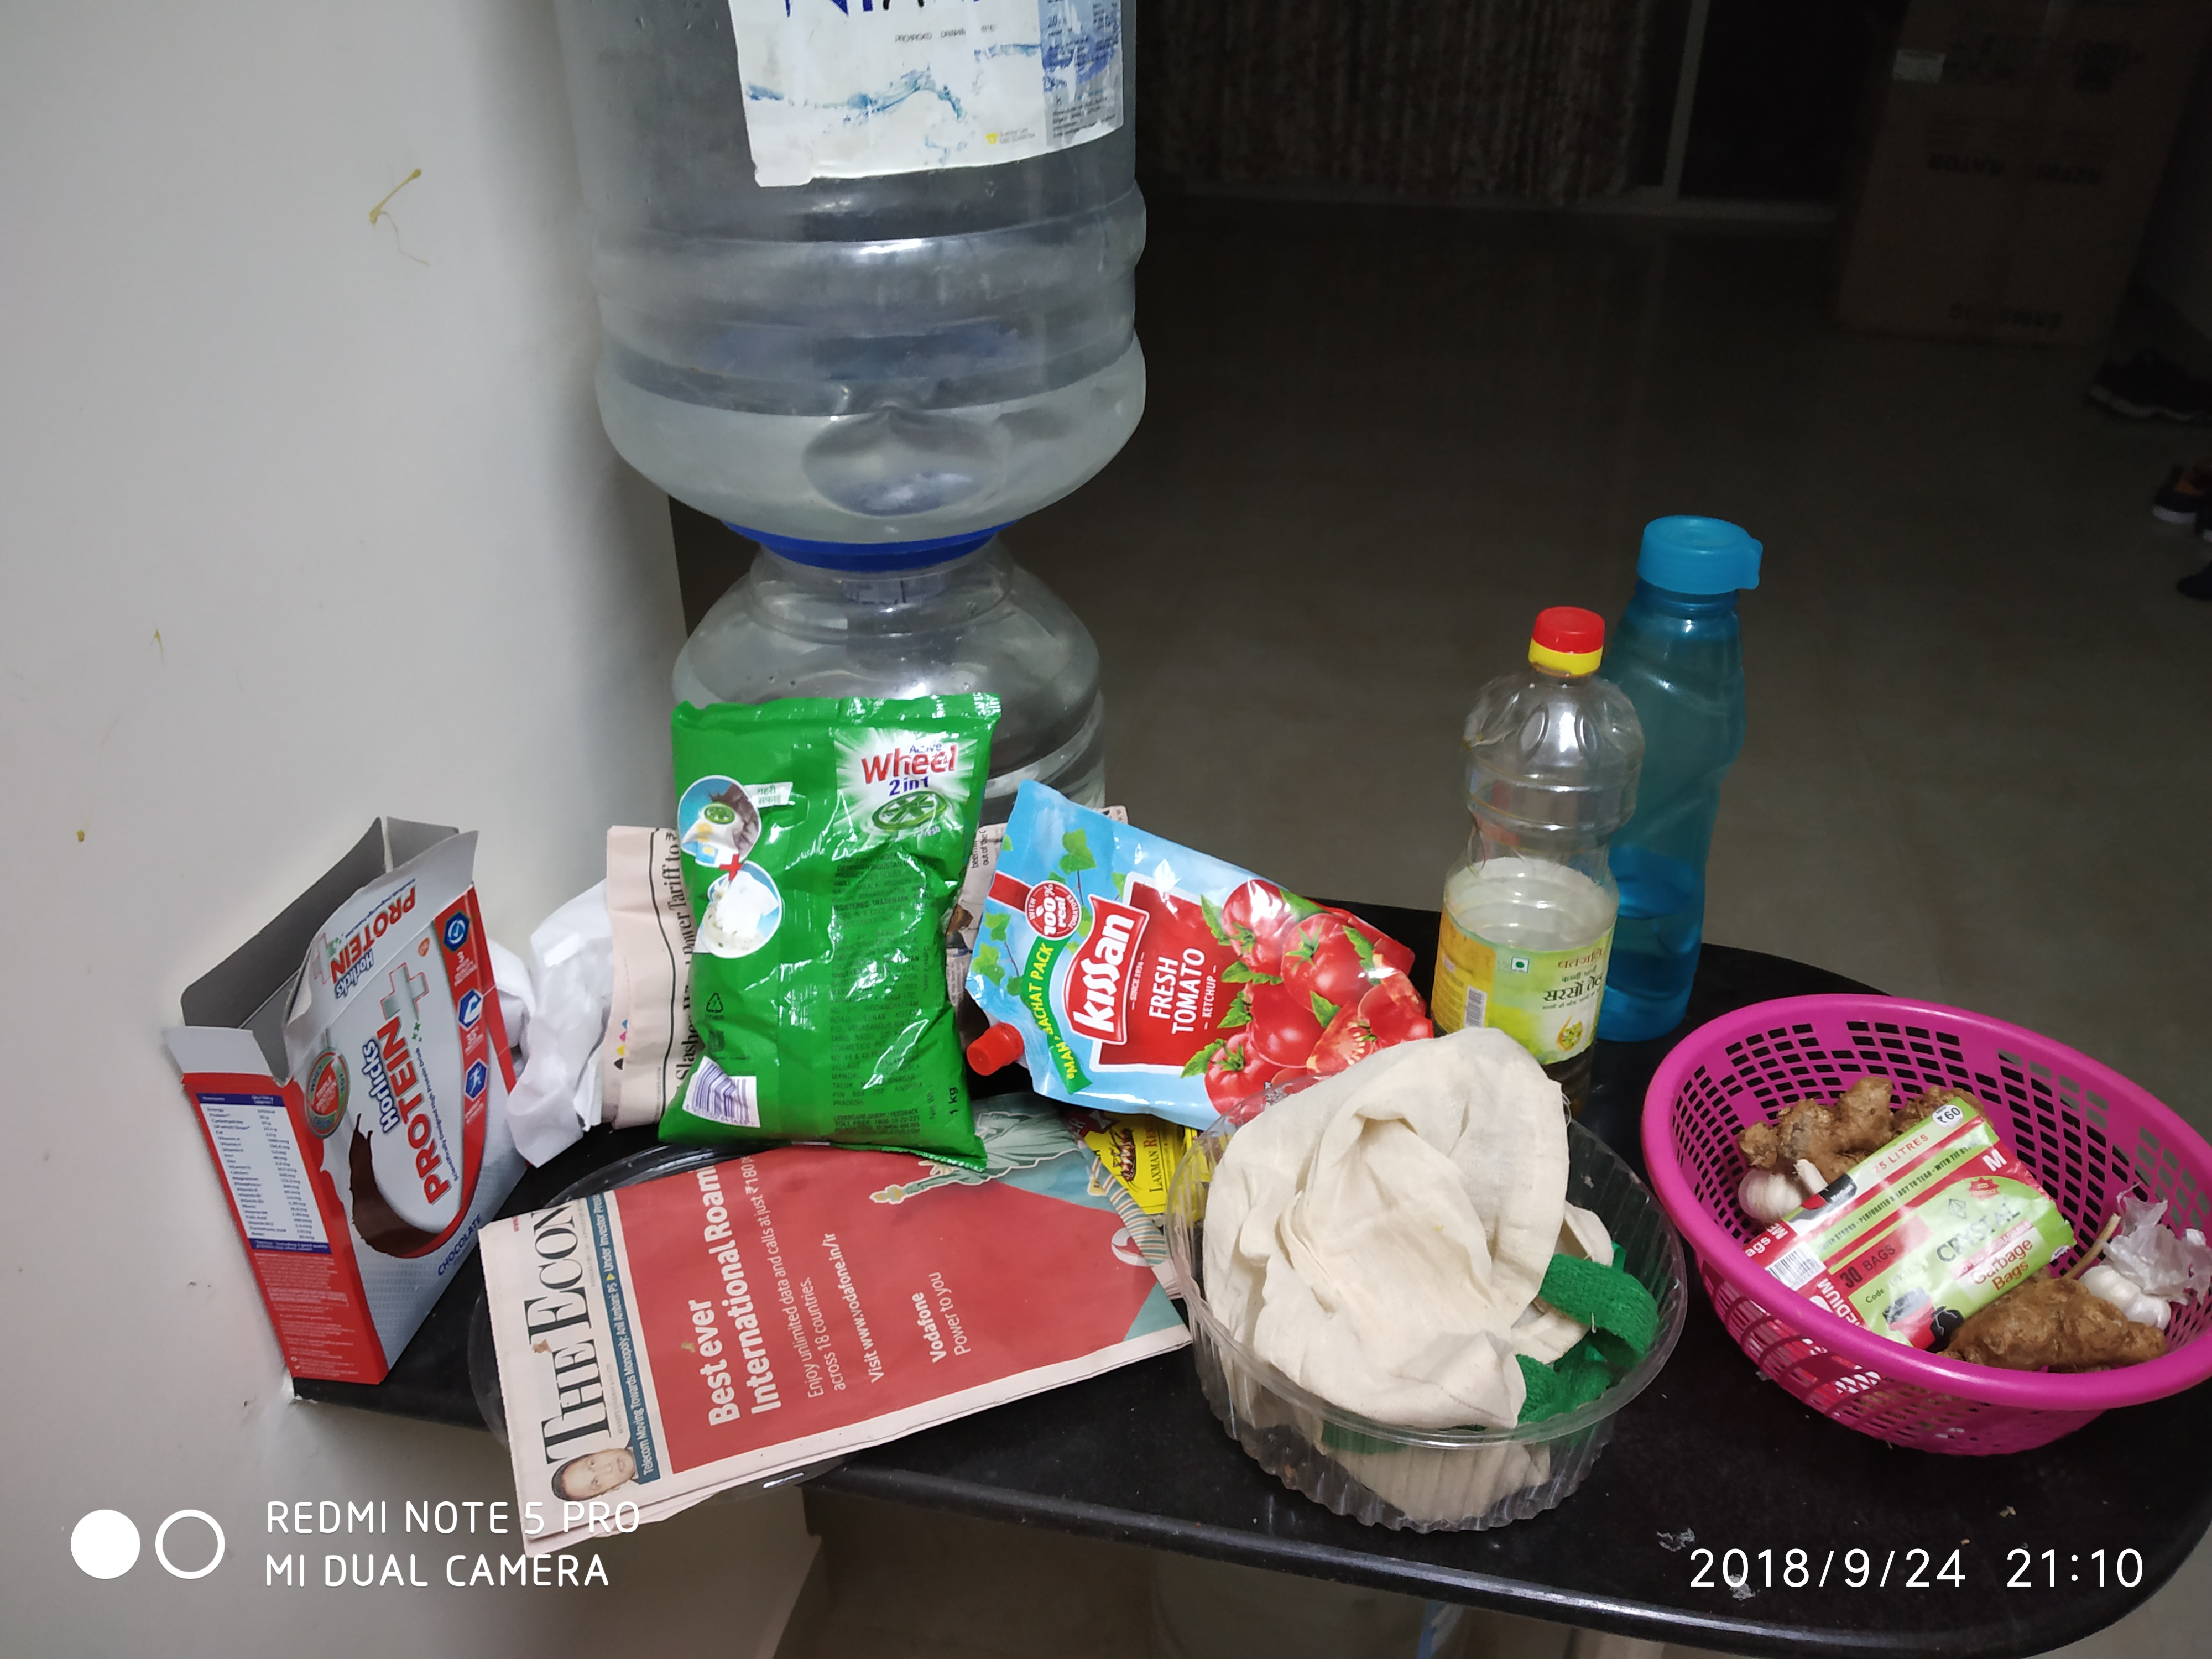detergent: (652, 684, 1001, 1168)
